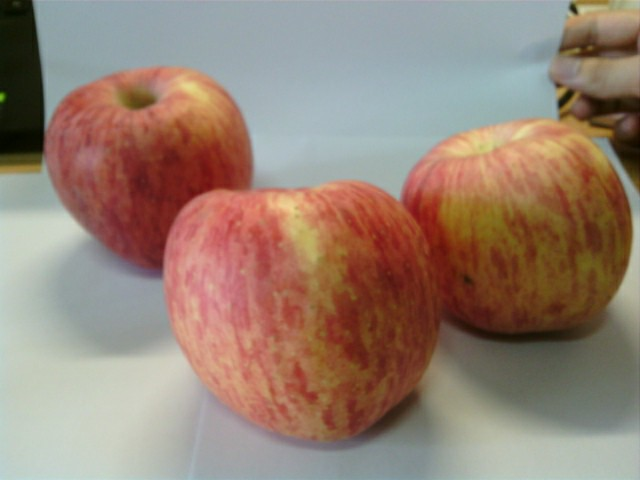normal_apple: (163, 184, 442, 450), (404, 117, 635, 344), (44, 67, 257, 277)
